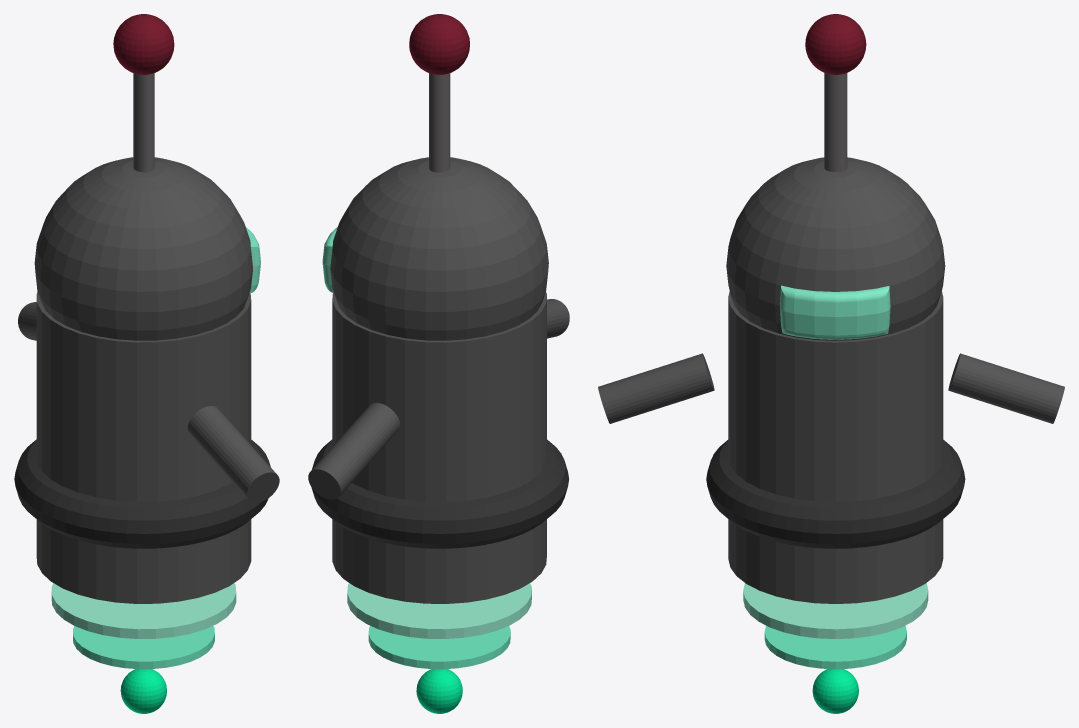
The model's file is botrefeito1.fbx.
3 renders of one model, left to right at view 1: azimuth 30°, elevation 25°; view 2: azimuth 150°, elevation 25°; view 3: azimuth 270°, elevation 25°, orthographic.
Parts seen in each view (by area): view 1: body_base1, head, body_base2, leg_1, arm_L, leg_2, Sphere, antena, leg_3, arm_R; view 2: body_base1, head, body_base2, leg_1, arm_R, leg_2, Sphere, antena, leg_3, arm_L; view 3: body_base1, head, body_base2, leg_1, arm_L, arm_R, leg_2, Sphere, antena, leg_3.
Part boxes in pixels (left/top/right/bottom): body_base1: left=36, top=292, right=251, bottom=603; head: left=34, top=157, right=260, bottom=340; body_base2: left=14, top=439, right=270, bottom=548; leg_1: left=51, top=583, right=236, bottom=638; arm_L: left=187, top=406, right=279, bottom=502; leg_2: left=73, top=626, right=214, bottom=669; Sphere: left=113, top=14, right=174, bottom=74; antena: left=133, top=73, right=154, bottom=172; leg_3: left=120, top=669, right=166, bottom=713; arm_R: left=18, top=302, right=36, bottom=340; body_base1: left=332, top=292, right=546, bottom=603; head: left=322, top=157, right=548, bottom=340; body_base2: left=311, top=439, right=568, bottom=548; leg_1: left=347, top=583, right=531, bottom=638; arm_R: left=308, top=403, right=400, bottom=499; leg_2: left=368, top=625, right=510, bottom=669; Sphere: left=409, top=14, right=469, bottom=74; antena: left=429, top=73, right=450, bottom=172; leg_3: left=416, top=669, right=462, bottom=713; arm_L: left=547, top=299, right=569, bottom=338; body_base1: left=728, top=291, right=943, bottom=603; head: left=726, top=157, right=945, bottom=340; body_base2: left=706, top=440, right=965, bottom=548; leg_1: left=743, top=583, right=928, bottom=638; arm_L: left=598, top=353, right=714, bottom=423; arm_R: left=948, top=353, right=1064, bottom=423; leg_2: left=764, top=625, right=906, bottom=669; Sphere: left=805, top=14, right=866, bottom=74; antena: left=824, top=73, right=847, bottom=171; leg_3: left=812, top=669, right=858, bottom=713.
Bounding box in the file's own units: 471 × 1395 × 849.
